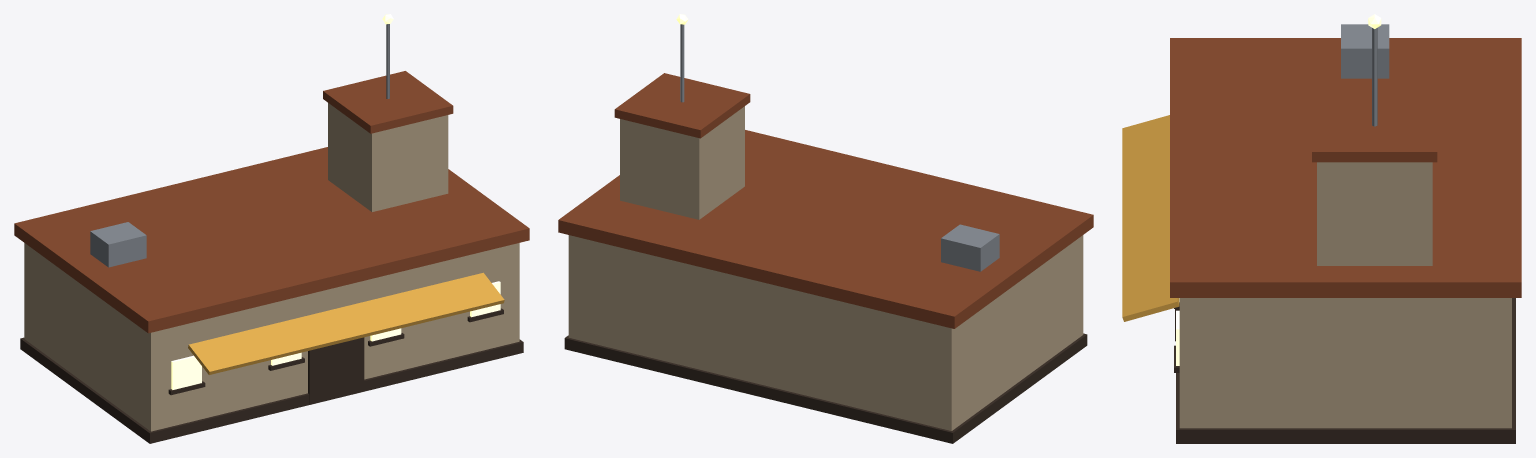
The model's file is bld_tower.glb.
The picture shows the model from 3 angles, left to right: view 1: azimuth 30°, elevation 25°; view 2: azimuth 150°, elevation 25°; view 3: azimuth 270°, elevation 25°; orthographic projection. The views are drawn at different scales.
Parts seen in each view (by area): view 1: building; view 2: building; view 3: building.
Part boxes in pixels (<box>): building: <box>14,14,529,443</box>; building: <box>558,14,1093,443</box>; building: <box>1122,14,1521,443</box>.
Bounding box in the file's own units: 6 × 4.47 × 4.15.
